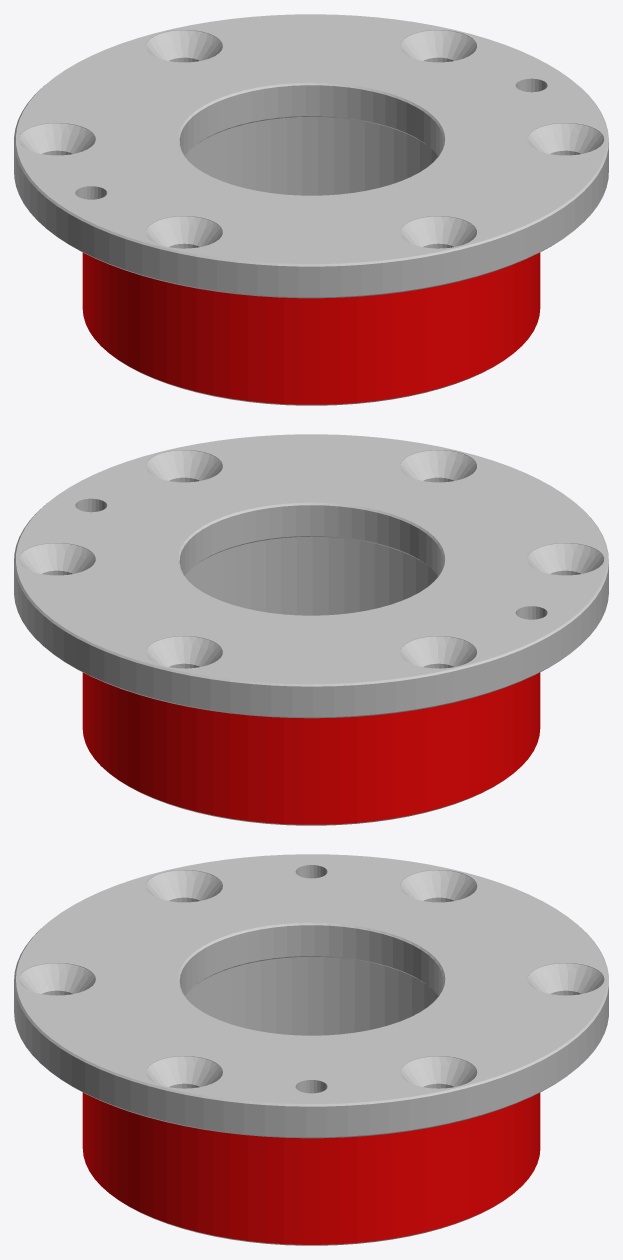
File: 6_stp_1_25.obj
The picture shows the model from 3 angles, top to bottom: view 1: azimuth 30°, elevation 25°; view 2: azimuth 150°, elevation 25°; view 3: azimuth 270°, elevation 25°; orthographic projection.
Visible parts, largest first — view 1: Object1; view 2: Object1; view 3: Object1.
Boxes of the visible parts, x1,y1,x2,y2 form: Object1: (14,14,608,405); Object1: (14,434,608,825); Object1: (14,854,608,1245).
Size of the model in its own units: 158 by 50 by 158.
